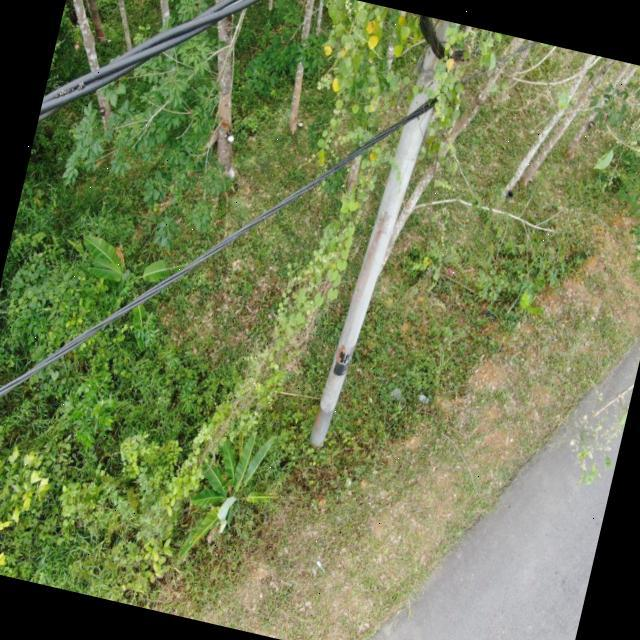critical vegetation: (139, 0, 508, 579)
